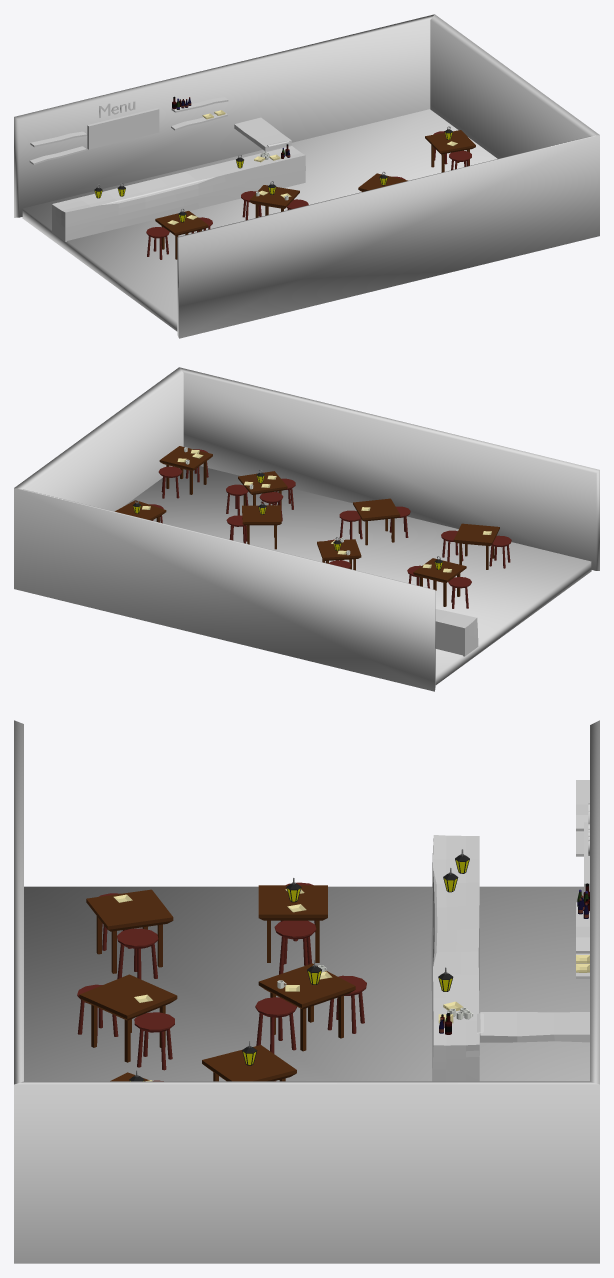
File: бар 2.fbx
The picture shows the model from 3 angles, top to bottom: view 1: azimuth 30°, elevation 25°; view 2: azimuth 150°, elevation 25°; view 3: azimuth 270°, elevation 25°; orthographic projection. The views are drawn at different scales.
Parts seen in each view (by area): view 1: Cube.001, Cube.021, Куб.005, Куб, Куб.001, Цилиндр.001; view 2: Cube.001, Cube.021, Куб.003, Куб.002, Куб.007, Куб, Куб.004, Куб.001, Куб.006, Куб.005; view 3: Cube.001, Cube.021, Куб.002, Куб.003, Куб.001, Куб, Куб.004, Цилиндр.008, Цилиндр.003, Цилиндр.006, Цилиндр, Цилиндр.004.
Part boxes in pixels (x1=…): Cube.001: x1=14, y1=14, x2=599, y2=338; Cube.021: x1=22, y1=97, x2=497, y2=331; Куб.005: x1=425, y1=130, x2=475, y2=172; Куб: x1=155, y1=211, x2=208, y2=259; Куб.001: x1=249, y1=185, x2=299, y2=217; Цилиндр.001: x1=146, y1=227, x2=169, y2=259; Cube.001: x1=14, y1=367, x2=599, y2=691; Cube.021: x1=124, y1=466, x2=591, y2=684; Куб.003: x1=353, y1=498, x2=400, y2=545; Куб.002: x1=453, y1=523, x2=499, y2=569; Куб.007: x1=159, y1=446, x2=212, y2=494; Куб: x1=413, y1=558, x2=466, y2=606; Куб.004: x1=242, y1=505, x2=281, y2=549; Куб.001: x1=317, y1=539, x2=361, y2=570; Куб.006: x1=238, y1=471, x2=287, y2=506; Куб.005: x1=115, y1=500, x2=166, y2=522; Cube.001: x1=14, y1=720, x2=599, y2=1263; Cube.021: x1=24, y1=780, x2=589, y2=1081; Куб.002: x1=86, y1=889, x2=173, y2=973; Куб.003: x1=79, y1=974, x2=177, y2=1062; Куб.001: x1=258, y1=963, x2=355, y2=1051; Куб: x1=258, y1=885, x2=327, y2=962; Куб.004: x1=202, y1=1045, x2=296, y2=1081; Цилиндр.008: x1=134, y1=1012, x2=174, y2=1070; Цилиндр.003: x1=255, y1=997, x2=296, y2=1053; Цилиндр.006: x1=117, y1=928, x2=158, y2=979; Цилиндр: x1=274, y1=920, x2=316, y2=974; Цилиндр.004: x1=327, y1=975, x2=366, y2=1033.
Size of the model in its own units: 2493 by 572 by 1694.
